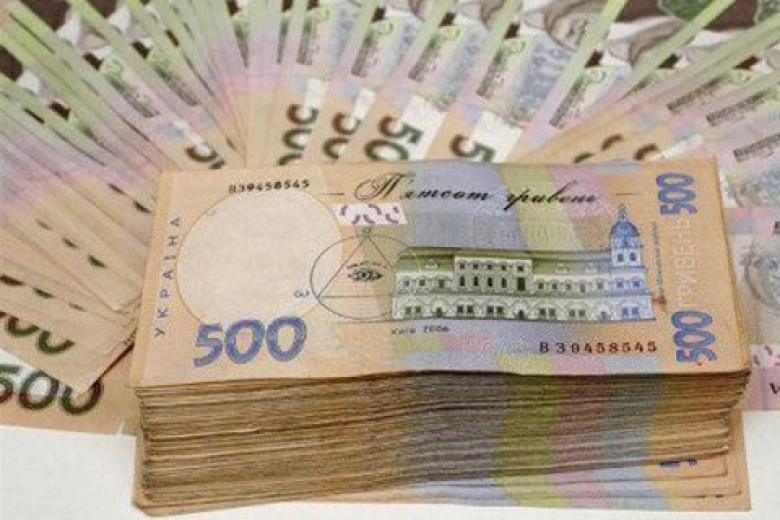bn_500: (151, 159, 748, 386), (315, 1, 488, 162), (395, 0, 568, 161), (268, 3, 418, 155)
